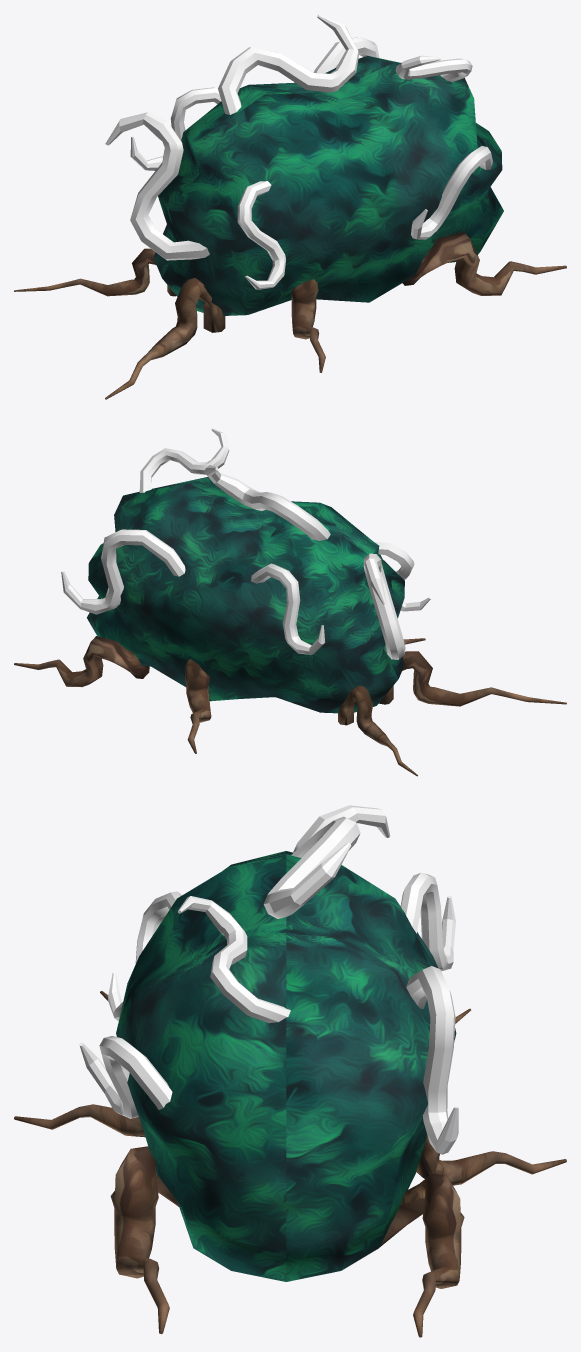
The model's file is Bush_Mutant_04.fbx.
3 views of the same model, one above another, from view 1: azimuth 30°, elevation 25°; view 2: azimuth 150°, elevation 25°; view 3: azimuth 270°, elevation 25° (orthographic). The views are drawn at different scales.
Parts seen in each view (by area): view 1: Bush_Mutant2; view 2: Bush_Mutant2; view 3: Bush_Mutant2.
Part boxes in pixels (<box>): Bush_Mutant2: <box>14,14,566,399</box>; Bush_Mutant2: <box>14,428,566,776</box>; Bush_Mutant2: <box>14,805,566,1337</box>.
Size of the model in its own units: 212 by 105 by 142.
